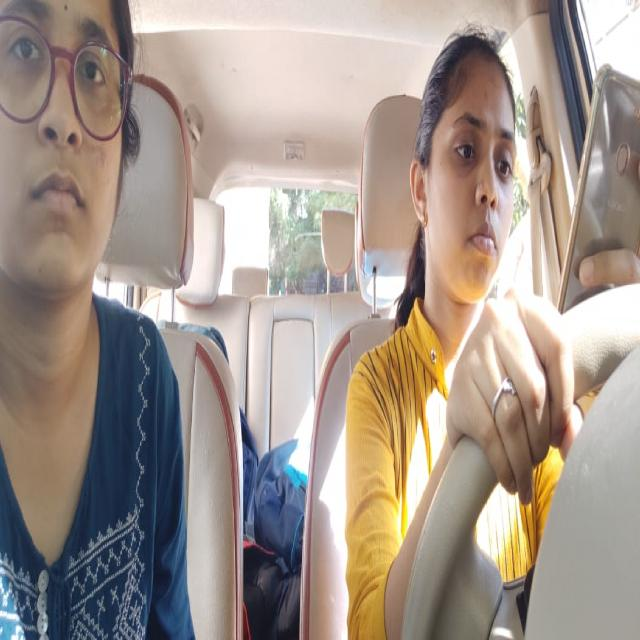mobile: (554, 48, 640, 366)
person: (1, 0, 140, 302), (408, 32, 525, 300)
